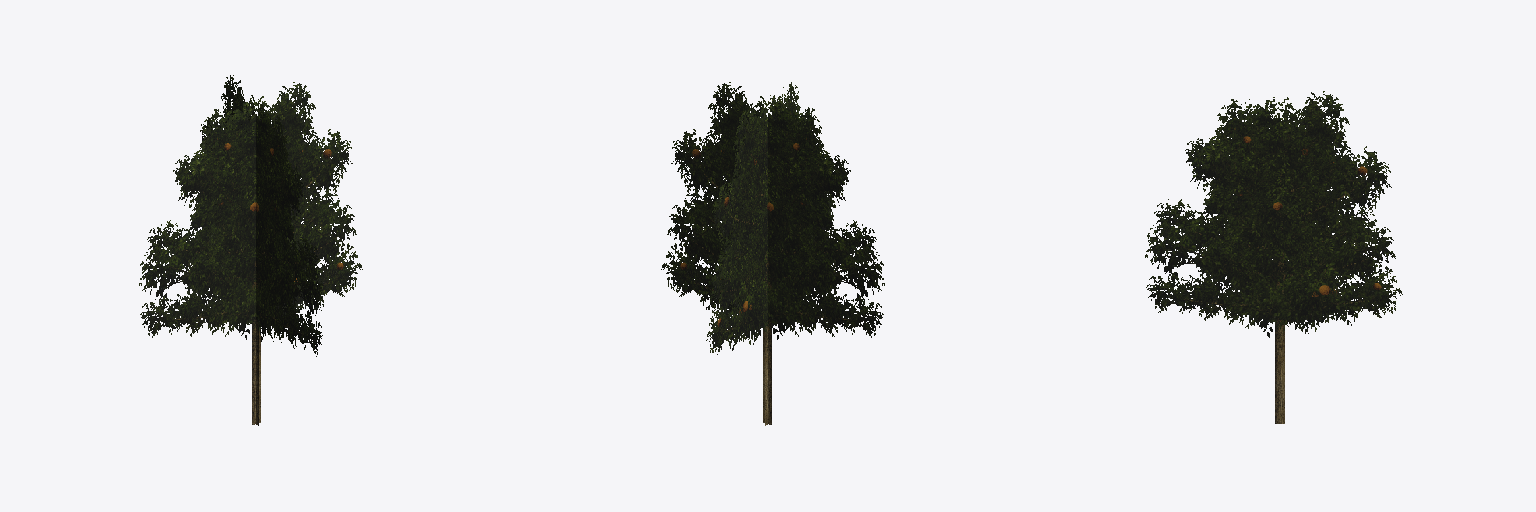
The picture shows the model from 3 angles: view 1: azimuth 30°, elevation 25°; view 2: azimuth 150°, elevation 25°; view 3: azimuth 270°, elevation 25°; orthographic projection.
Visible parts, largest first — view 1: CreateFan; view 2: CreateFan; view 3: CreateFan.
Boxes of the visible parts, x1,y1,x2,y2 form: CreateFan: [139, 75, 362, 425]; CreateFan: [661, 82, 884, 425]; CreateFan: [1145, 91, 1402, 423].
Bounding box in the file's own units: 5.48 × 7 × 5.48.
1 materials, 1 textured.